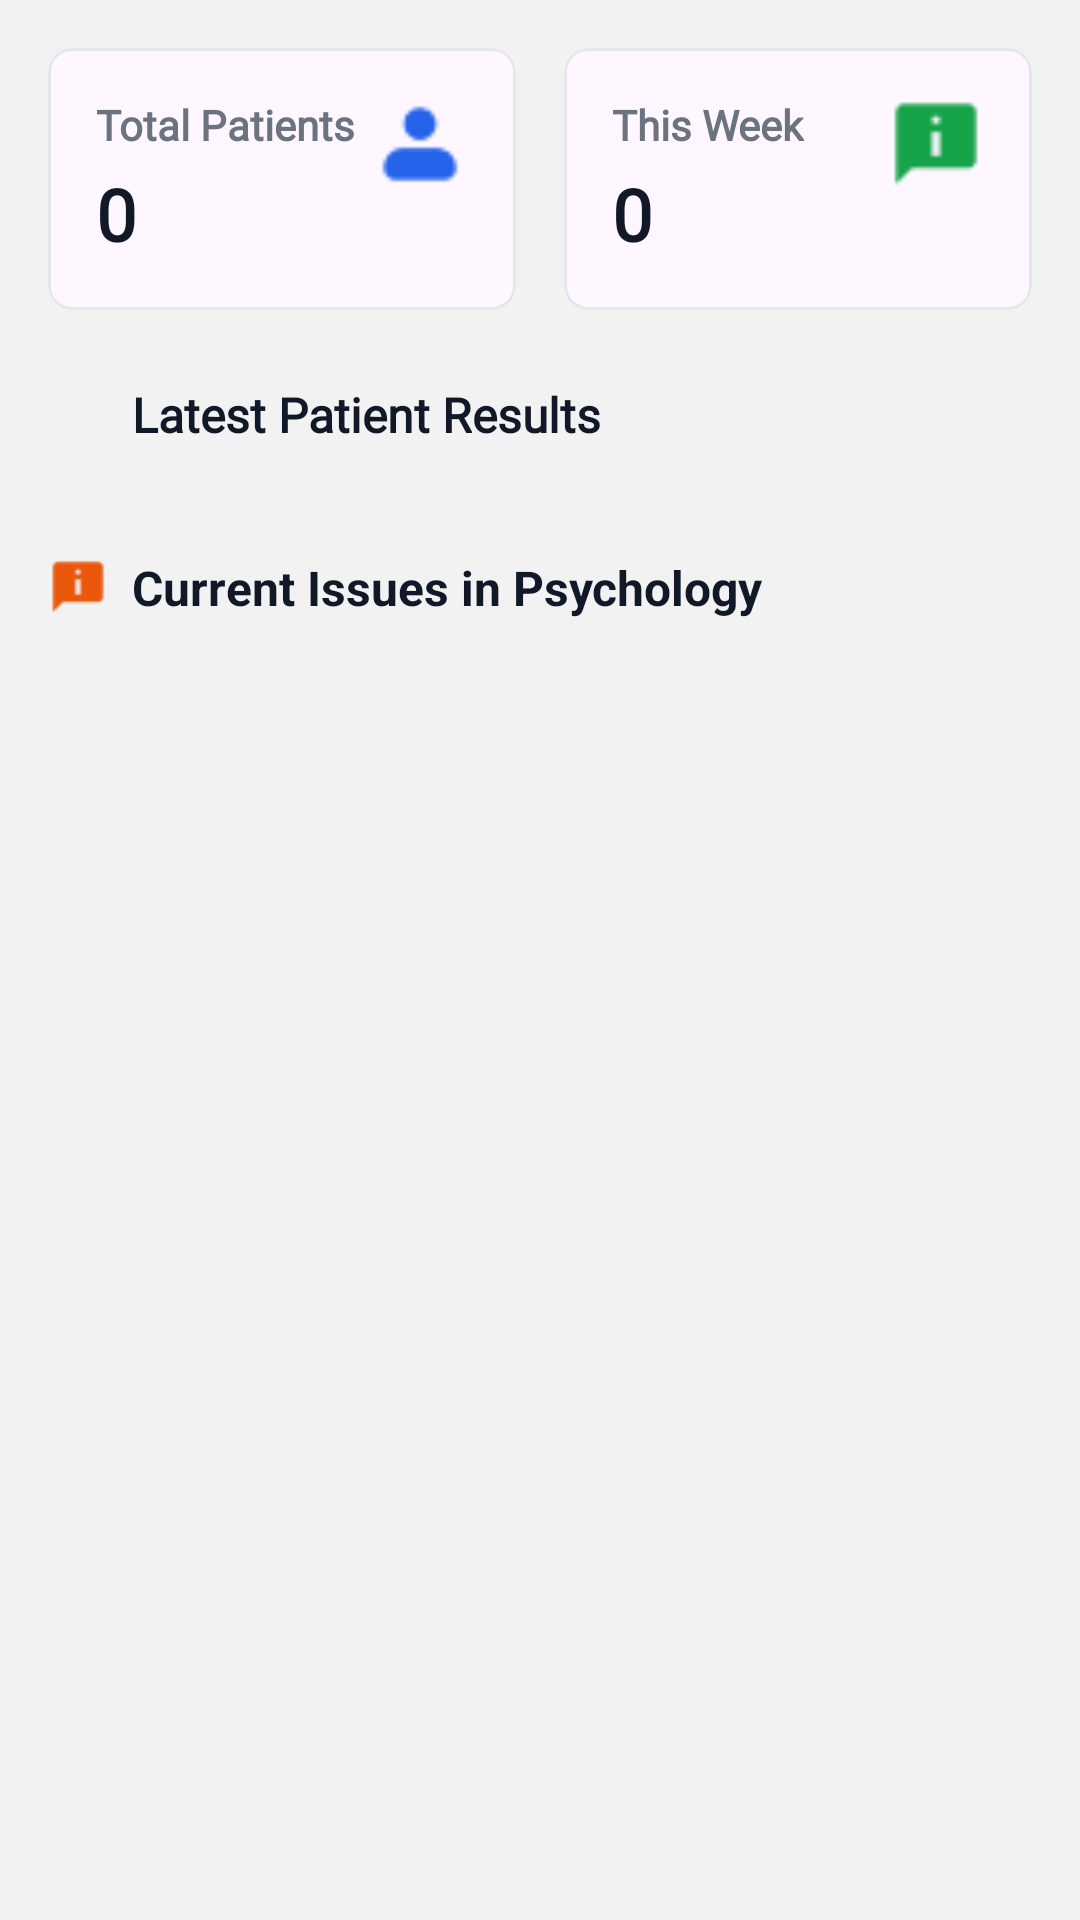

Named icons in this screenshot (1080w x 1920h) and their centers, point (x, y):
info: point (936, 143), point (78, 587)
